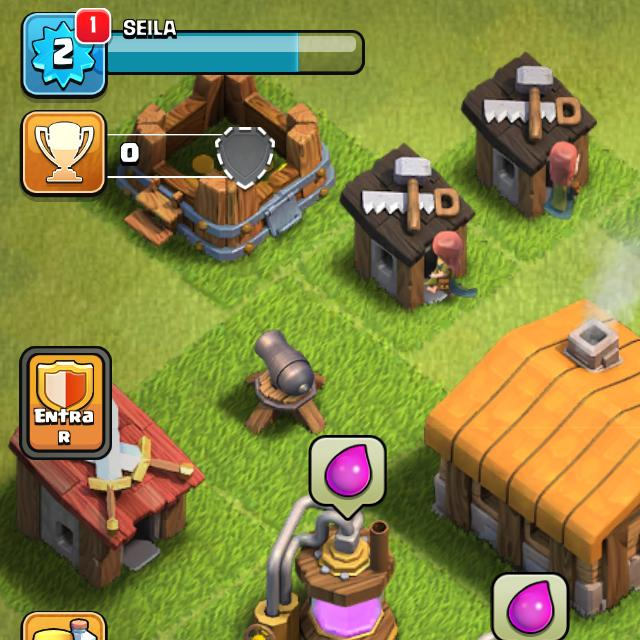Elixir: (308, 433, 388, 517), (495, 574, 567, 640)
